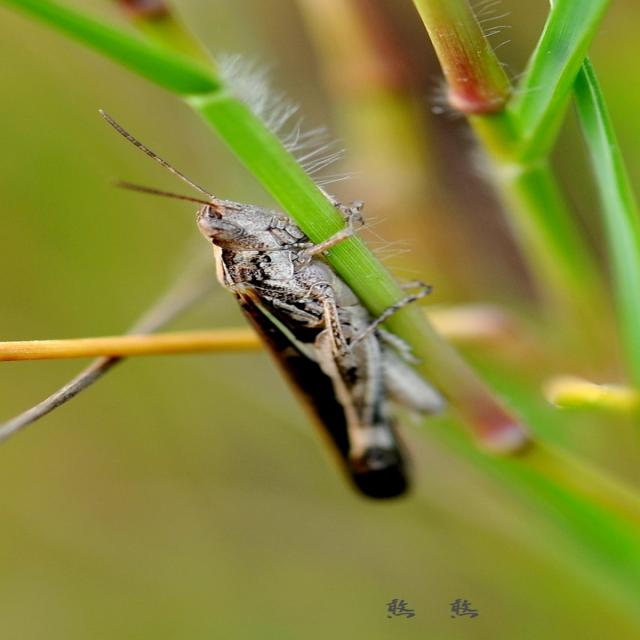ZhaMeng: (90, 97, 468, 518)
